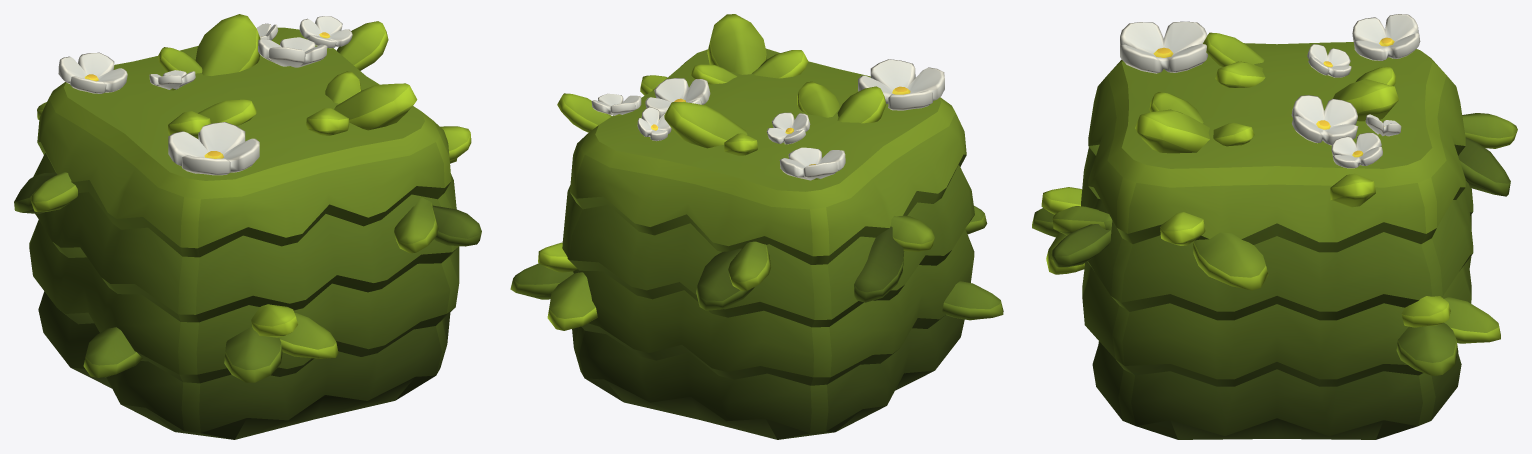
The model's file is bush_square_big_flower_LOD_group.fbx.
3 renders of one model, left to right at view 1: azimuth 30°, elevation 25°; view 2: azimuth 150°, elevation 25°; view 3: azimuth 270°, elevation 25°, orthographic. The views are drawn at different scales.
Parts seen in each view (by area): view 1: bush_square_big_flower_LOD0; view 2: bush_square_big_flower_LOD0; view 3: bush_square_big_flower_LOD0.
Boxes of the visible parts, <box> form: bush_square_big_flower_LOD0: <box>14,14,481,439</box>; bush_square_big_flower_LOD0: <box>510,14,1003,439</box>; bush_square_big_flower_LOD0: <box>1032,14,1517,439</box>.
Size of what is drawn, in the model's own units: 309 by 236 by 319.
1 material, 1 textured.
